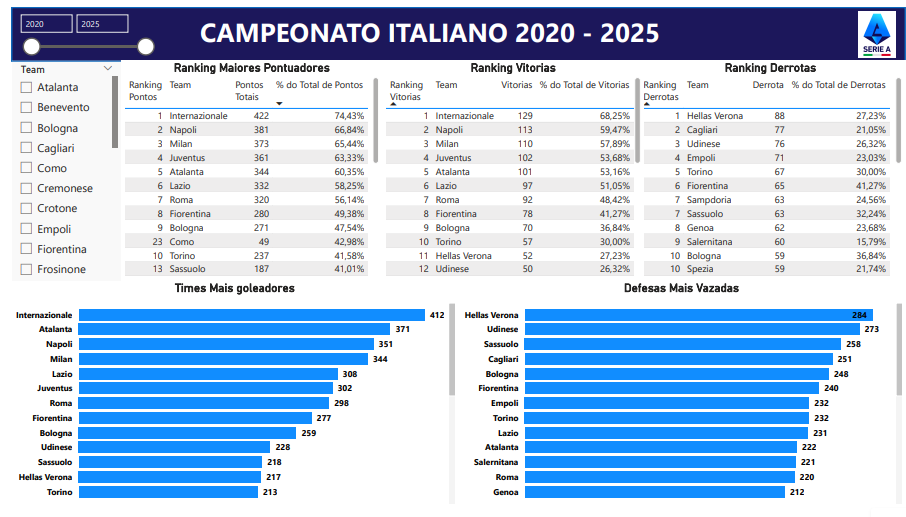

The page's visual inventory and layout, read from the dashboard file:
{"tool":"powerbi","page":{"name":"Detalhamento","canvas":[1280,720],"ordinal":1},"visuals":[{"type":"group","id":"g1","title":"Grupo 1","box":[0,0,1280,76.7],"z":0},{"type":"shape","box":[0,0,1280,76.7],"z":0,"group":"g1"},{"type":"slicer","fields":{"Values":["matches_serie_A.Date.Variation.Hierarquia de datas.Ano"]},"box":[0,0,213.3,76.7],"z":1000},{"type":"textbox","box":[265,5,703.3,60],"z":1000,"group":"g1"},{"type":"slicer","fields":{"Values":["matches_serie_A.Team"]},"box":[0,76.3,157,315.4],"z":2000},{"type":"tableEx","title":"Ranking Derrotas","fields":{"Values":["Medidas.Ranking Derrotas","matches_serie_A.Team","Medidas.Derrota","Medidas.% do Total de Derrotas"]},"box":[894.2,76.3,385.9,315.4],"z":3000},{"type":"tableEx","title":"Ranking Vitorias","fields":{"Values":["Medidas.Ranking Vitorias","matches_serie_A.Team","Medidas.Vitorias","Medidas.% do Total de Vitorias"]},"box":[531.4,76.3,374.4,315.4],"z":4000},{"type":"tableEx","title":"Ranking Maiores Pontuadores","fields":{"Values":["Medidas.Ranking Pontos","matches_serie_A.Team","Medidas.Pontos Totais","Medidas.Taxa Aproveitamento"]},"box":[157,76.3,374.4,315.4],"z":5000},{"type":"clusteredBarChart","title":"Times Mais goleadores","fields":{"Category":["matches_serie_A.Team"],"Y":["Sum(matches_serie_A.GF)"]},"box":[0,391.7,639.4,325.4],"z":6000},{"type":"clusteredBarChart","title":"Defesas Mais Vazadas","fields":{"Category":["matches_serie_A.Team"],"Y":["Sum(matches_serie_A.GA)"]},"box":[639.4,391.7,640.8,325.4],"z":7000},{"type":"image","box":[1197.5,0,82.5,76.2],"z":7001}]}

Visuals, with their boxes in screenshot pixels (x1, y1, x2, y2), scaled from the page's 1280x720 canvas onto the 906x517 screenshot:
"Grupo 1" group: box=[0, 0, 905, 55]
shape: box=[0, 0, 905, 55]
slicer - matches_serie_A.Date.Variation.Hierarquia de datas.Ano: box=[0, 0, 151, 55]
textbox: box=[188, 4, 685, 47]
slicer - matches_serie_A.Team: box=[0, 55, 111, 281]
"Ranking Derrotas" tableEx: box=[633, 55, 905, 281]
"Ranking Vitorias" tableEx: box=[376, 55, 641, 281]
"Ranking Maiores Pontuadores" tableEx: box=[111, 55, 376, 281]
"Times Mais goleadores" clusteredBarChart: box=[0, 281, 453, 515]
"Defesas Mais Vazadas" clusteredBarChart: box=[453, 281, 905, 515]
image: box=[848, 0, 905, 55]
